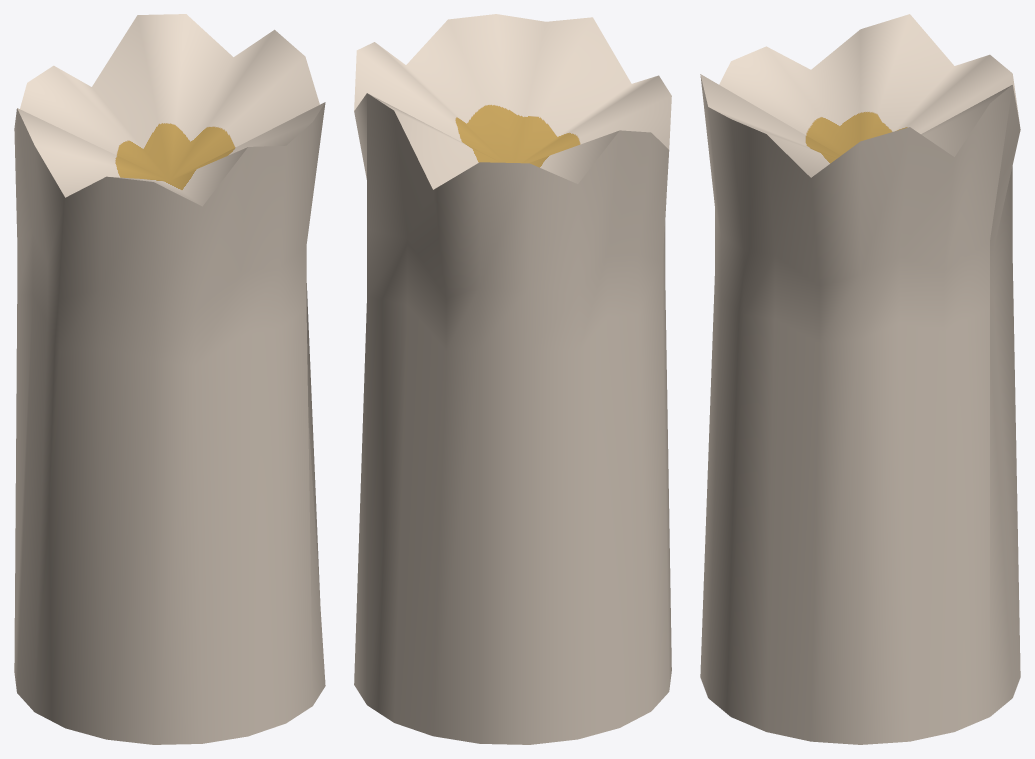
The model's file is model_candel_1.fbx.
3 renders of one model, left to right at view 1: azimuth 30°, elevation 25°; view 2: azimuth 150°, elevation 25°; view 3: azimuth 270°, elevation 25°, orthographic. The views are drawn at different scales.
Visible parts, largest first — view 1: pCylinder1; view 2: pCylinder1; view 3: pCylinder1.
Boxes of the visible parts, bbox=[...] form: pCylinder1: bbox=[14, 14, 325, 744]; pCylinder1: bbox=[354, 14, 671, 744]; pCylinder1: bbox=[700, 14, 1020, 744].
Bounding box in the file's own units: 2 × 4.24 × 2.
